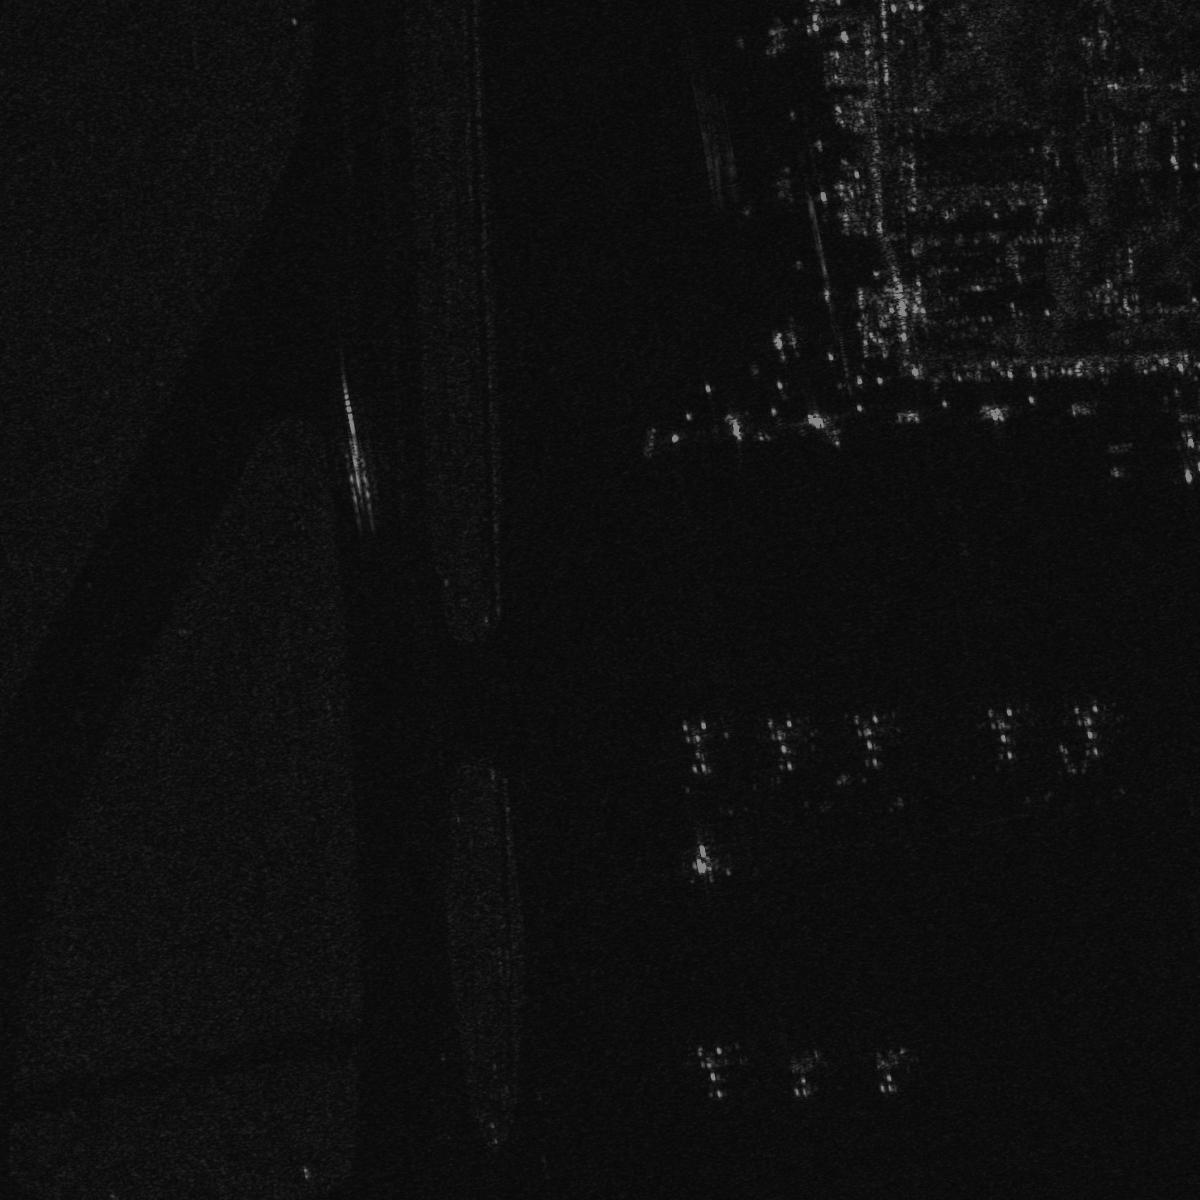A220: (784, 1047, 834, 1101)
A320/321: (869, 1044, 916, 1099)
ARJ21: (679, 1042, 749, 1101), (1157, 407, 1199, 493), (671, 841, 737, 884)
other: (747, 705, 829, 784), (837, 705, 916, 780), (1051, 695, 1131, 768), (662, 708, 736, 779), (973, 696, 1035, 768)
